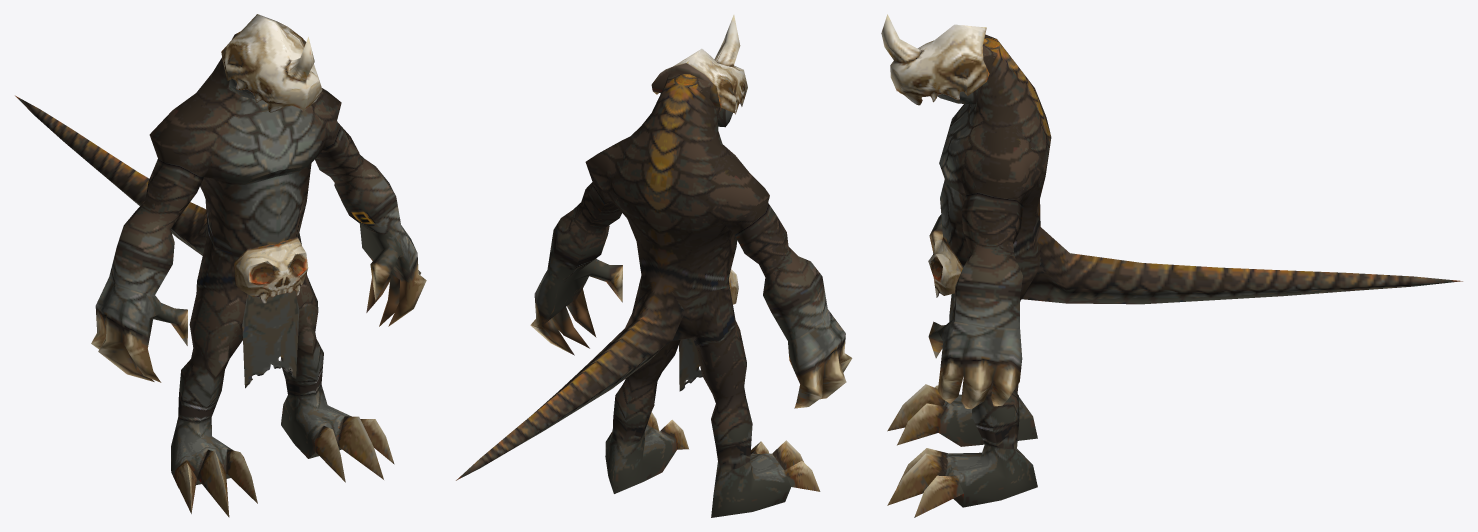
File: tutara3_cfc403ec.glb
3 renders of one model, left to right at view 1: azimuth 30°, elevation 25°; view 2: azimuth 150°, elevation 25°; view 3: azimuth 270°, elevation 25°, orthographic. The views are drawn at different scales.
Bounding box in the file's own units: 1.8 × 2.46 × 2.85.
Materials: 1 (1 with a texture image).
